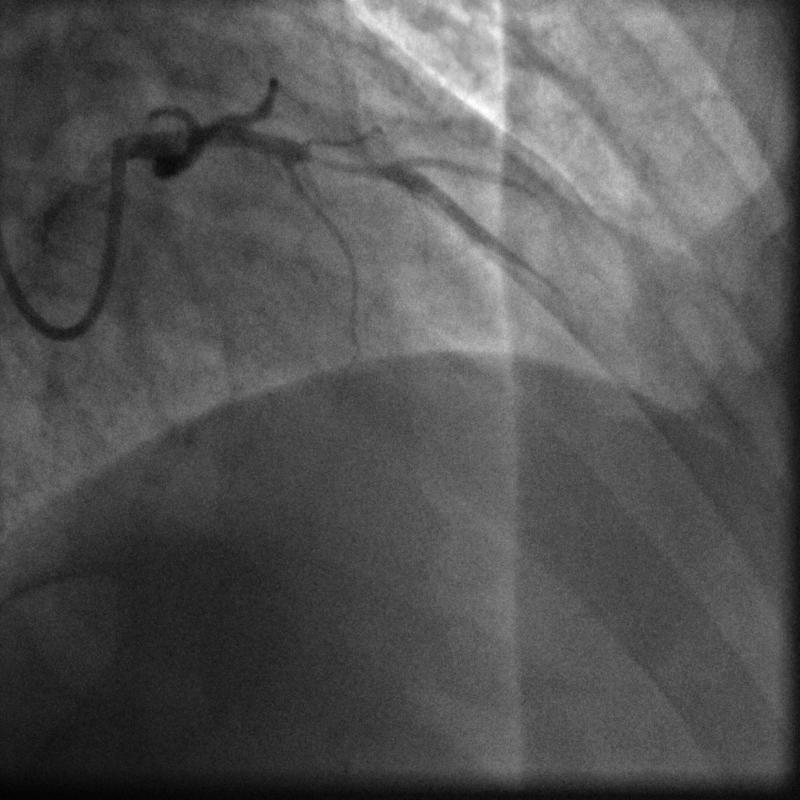Stenosis: (308, 144, 385, 175)
